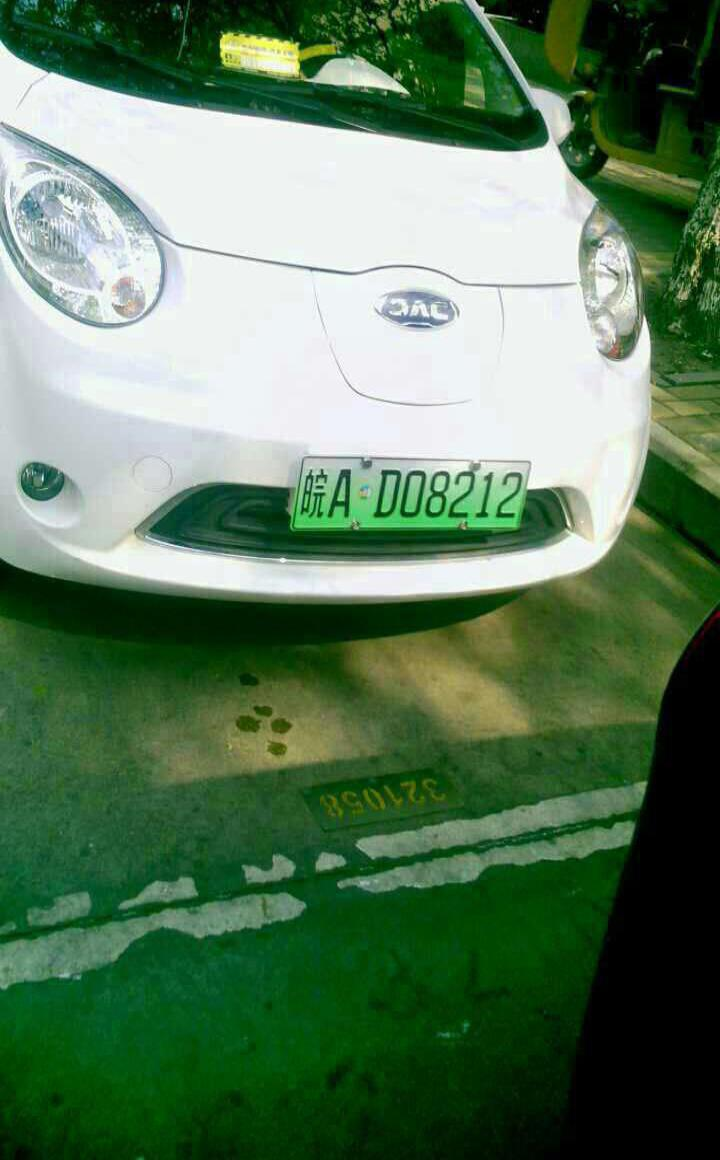car_green: (290, 450, 535, 546)
